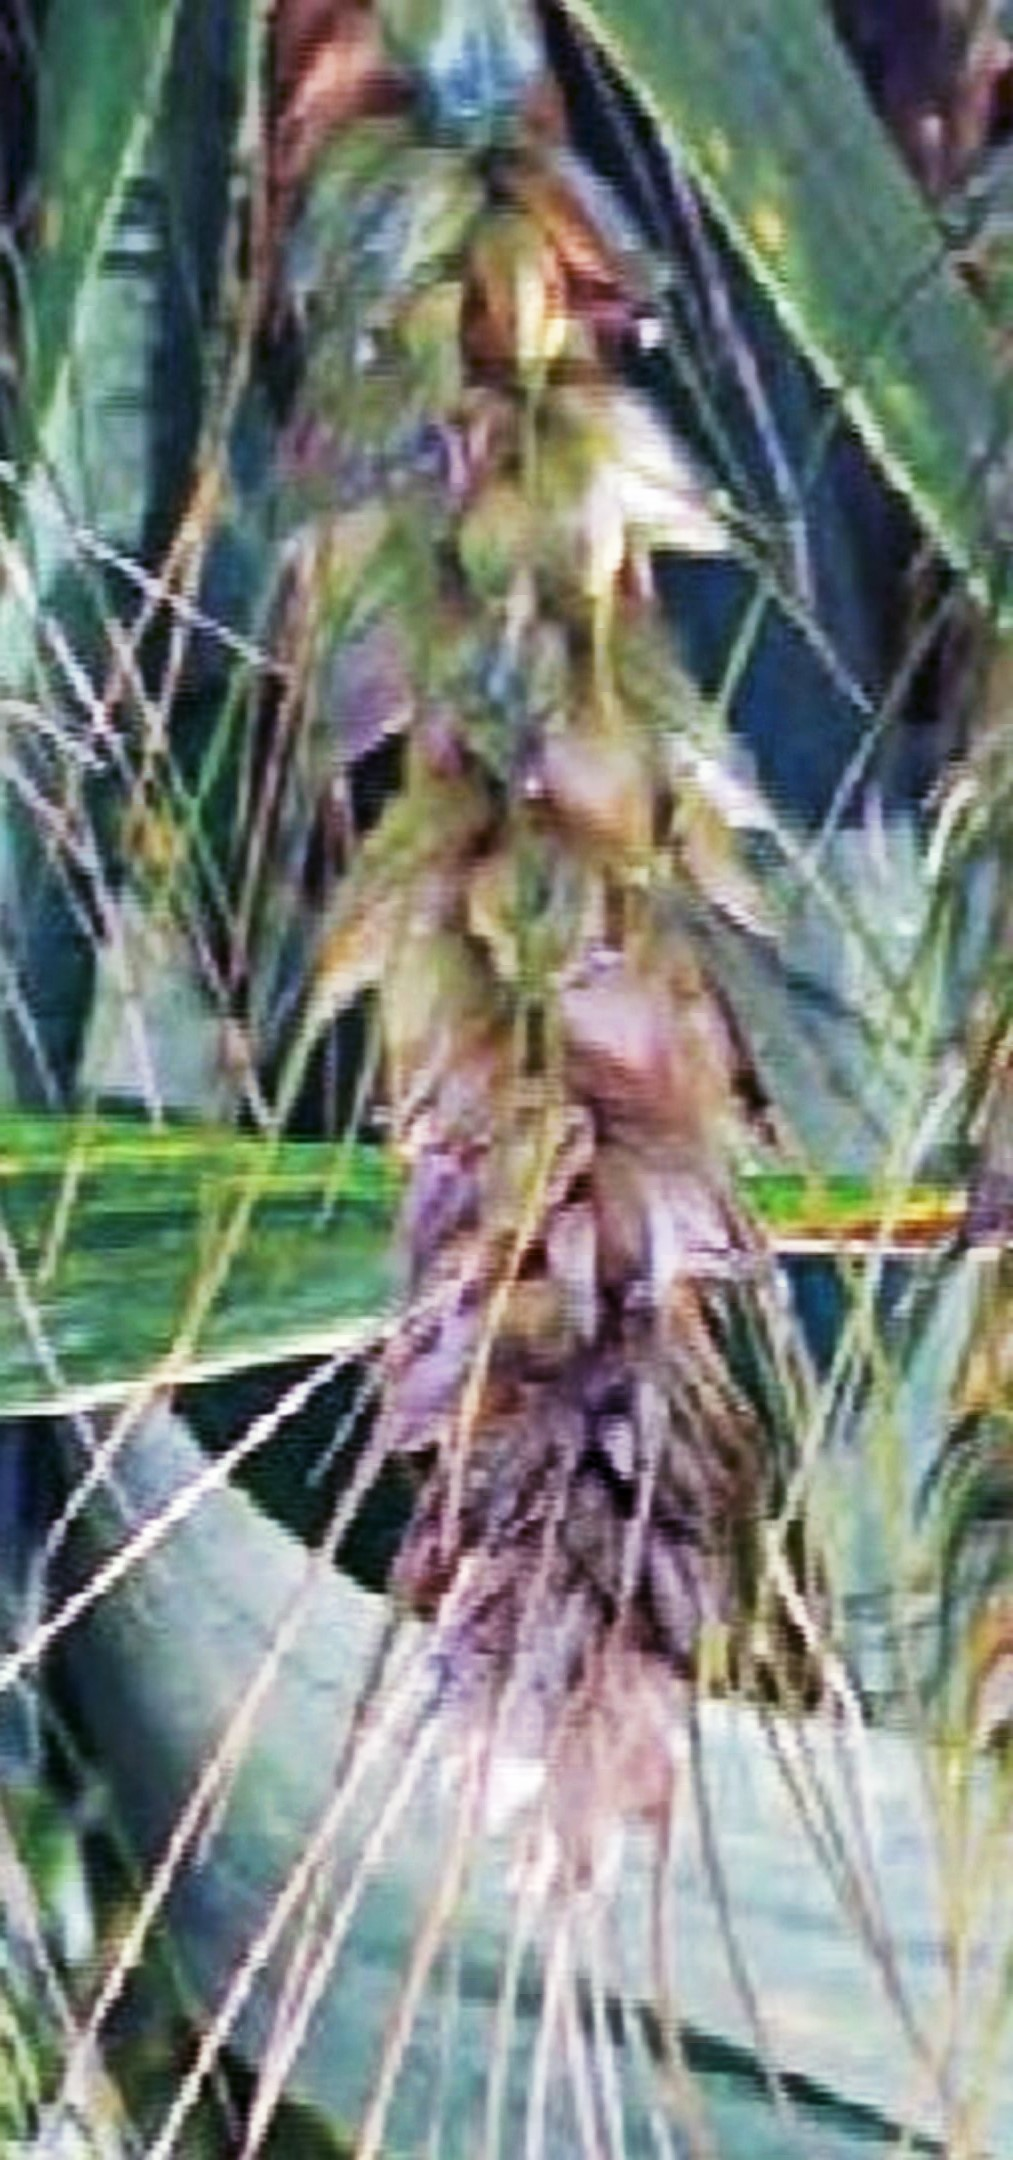Wheat scab: (267, 83, 819, 1759)
